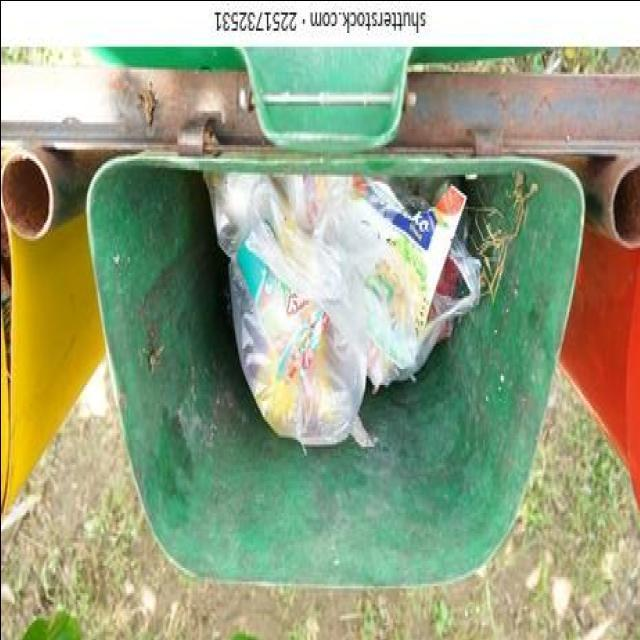Garbage: (201, 171, 486, 450)
Plastic_Bag: (205, 173, 479, 444)
contaminated_waste: (203, 170, 488, 447)
top_view_waste: (88, 152, 581, 586)
